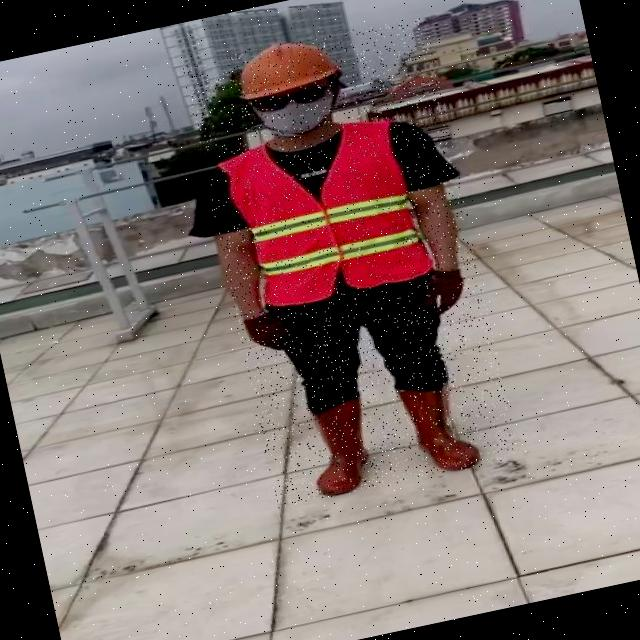boots: (394, 373, 484, 480), (297, 398, 378, 498)
helmet: (231, 32, 344, 104)
vest: (219, 116, 430, 312)
